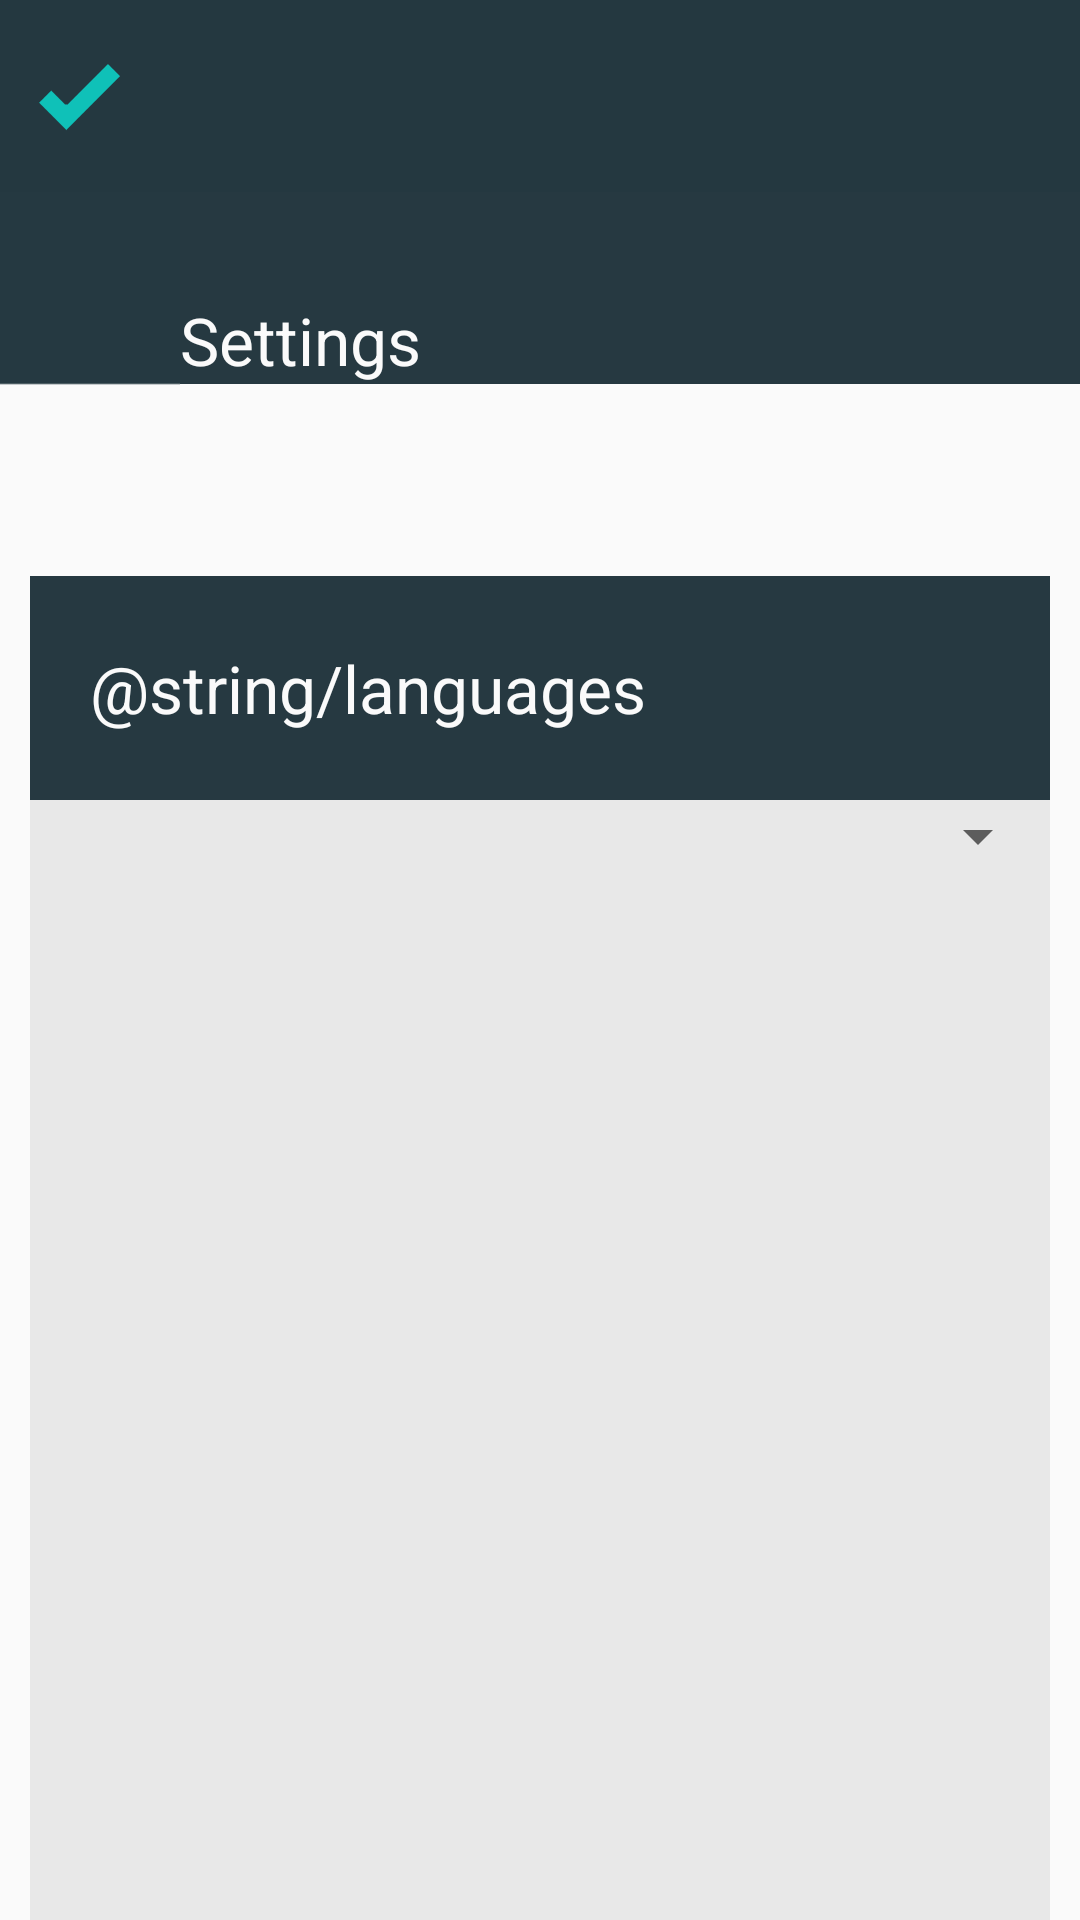

Where icons sit on this 1080px x 1920px app screen, as (x1, y1, x2, y2):
tickbtn: (39, 64, 120, 130)
